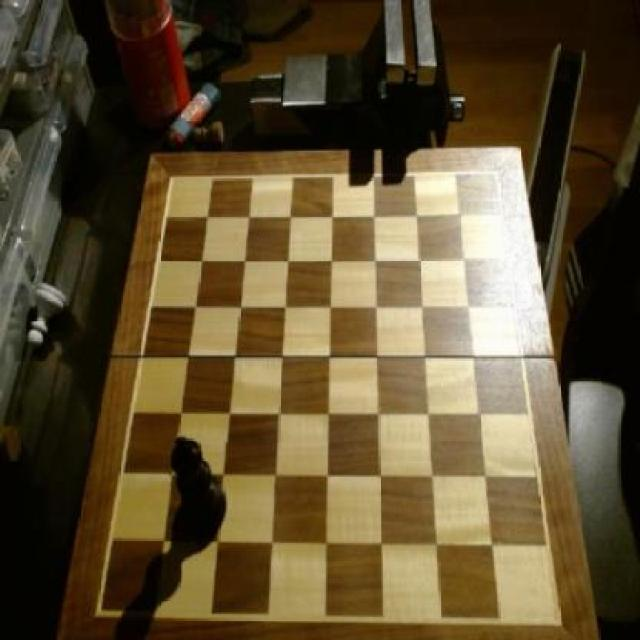black-bishop: (171, 432, 229, 540)
